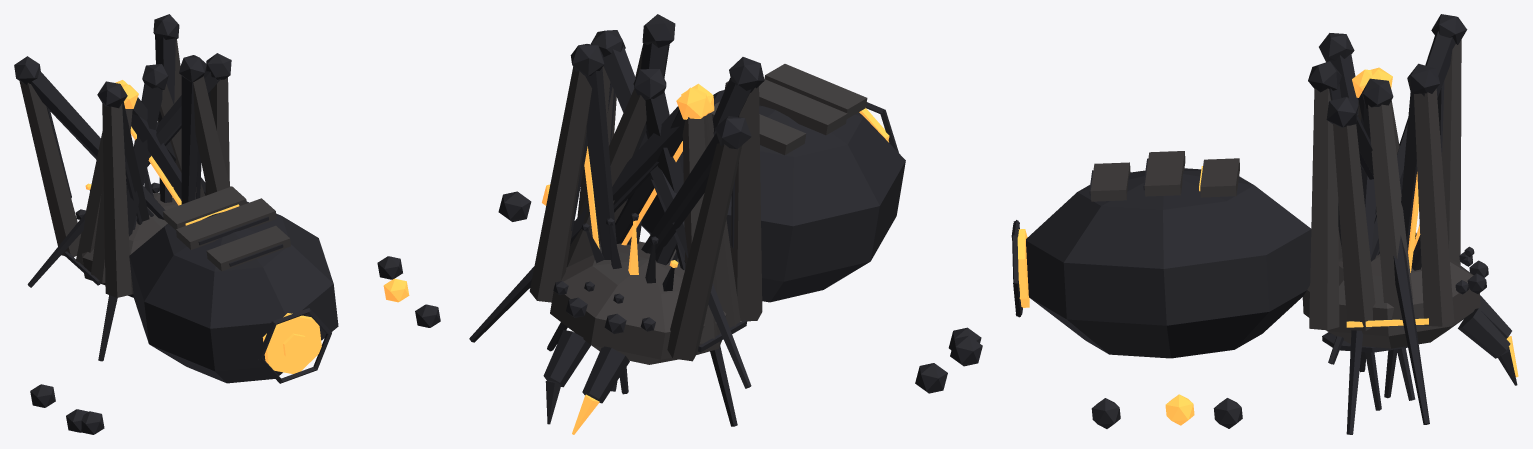
File: Wreck_QueenArachne.fbx
3 views of the same model, side by side, from view 1: azimuth 30°, elevation 25°; view 2: azimuth 150°, elevation 25°; view 3: azimuth 270°, elevation 25° (orthographic). The views are drawn at different scales.
Visible parts, largest first — view 1: Wreck_QueenArachne; view 2: Wreck_QueenArachne; view 3: Wreck_QueenArachne.
Part boxes in pixels (x1,y1,x2,y2): Wreck_QueenArachne: (14, 14, 440, 434); Wreck_QueenArachne: (469, 14, 982, 434); Wreck_QueenArachne: (1011, 14, 1518, 434).
Size of the model in its own units: 1.79 by 1.44 by 1.85.
